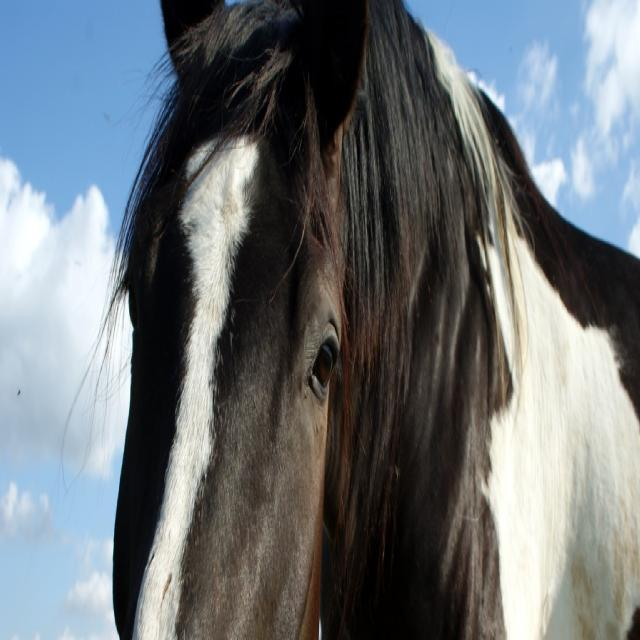Horse: (62, 1, 640, 639)
